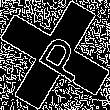P_NW: (24, 26, 86, 84)
